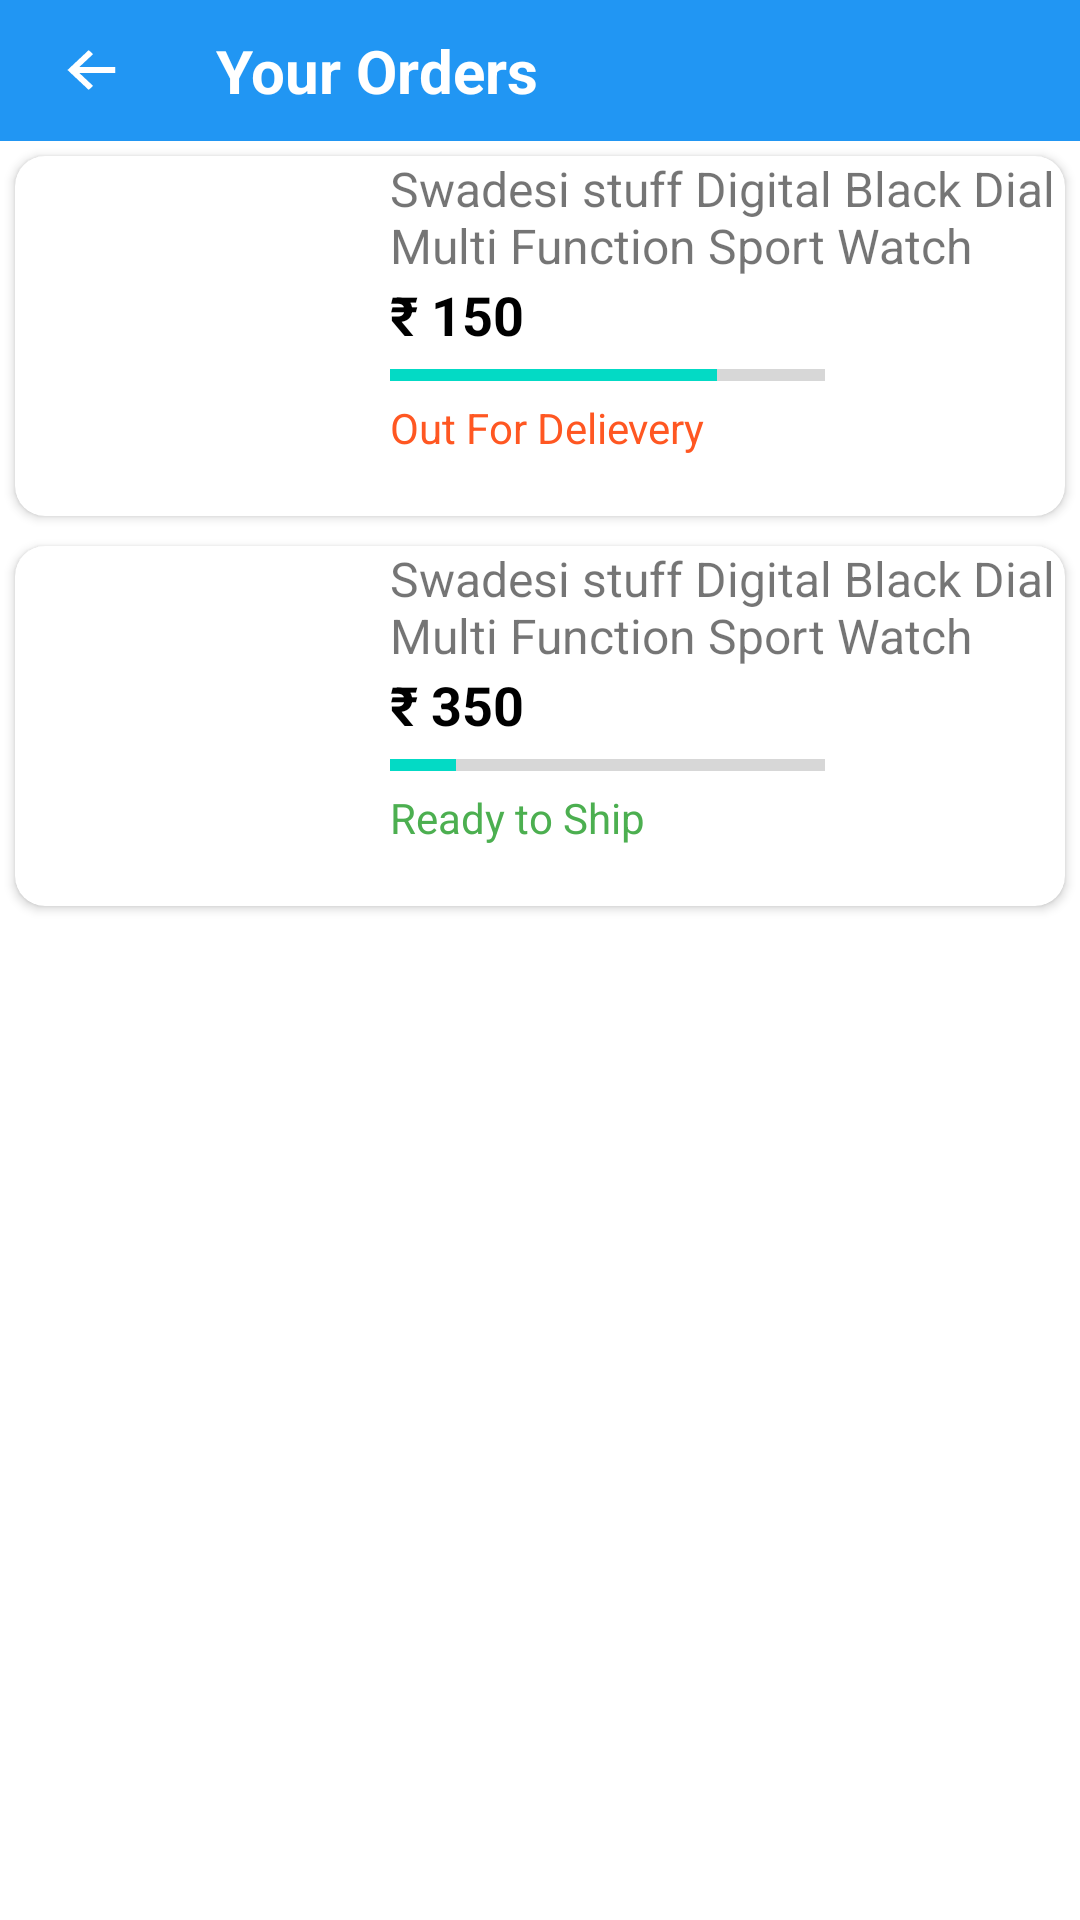

Icons on this 1080 × 1920 Android screen, each with the point to tap as point (x, y):
left arrow: point (91, 70)
